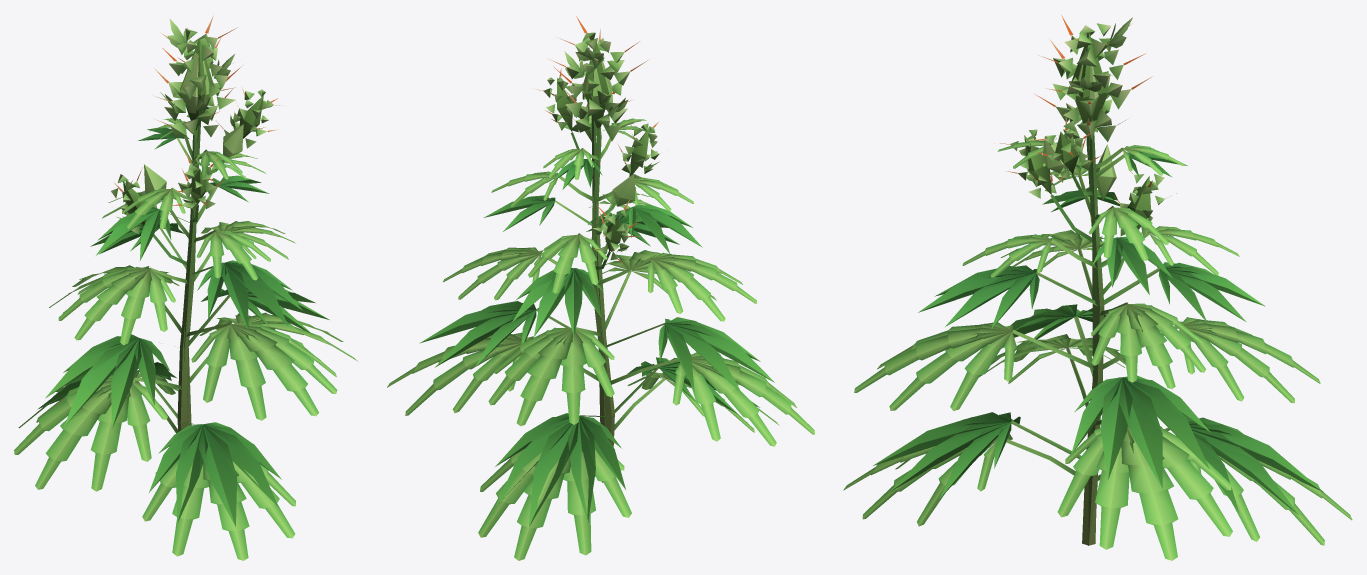
The model's file is planta-ella.glb.
3 renders of one model, left to right at view 1: azimuth 30°, elevation 25°; view 2: azimuth 150°, elevation 25°; view 3: azimuth 270°, elevation 25°, orthographic. The views are drawn at different scales.
Parts seen in each view (by area): view 1: planta_casa_solido, planta_leve_solido; view 2: planta_casa_solido, planta_leve_solido; view 3: planta_casa_solido, planta_leve_solido.
Part boxes in pixels (x1=…): planta_casa_solido: x1=14, y1=15, x2=358, y2=560; planta_leve_solido: x1=37, y1=52, x2=329, y2=526; planta_casa_solido: x1=387, y1=16, x2=814, y2=560; planta_leve_solido: x1=419, y1=60, x2=774, y2=527; planta_casa_solido: x1=843, y1=15, x2=1352, y2=560; planta_leve_solido: x1=873, y1=49, x2=1323, y2=545.
Bounding box in the file's own units: 1.38 × 1.64 × 1.43.
